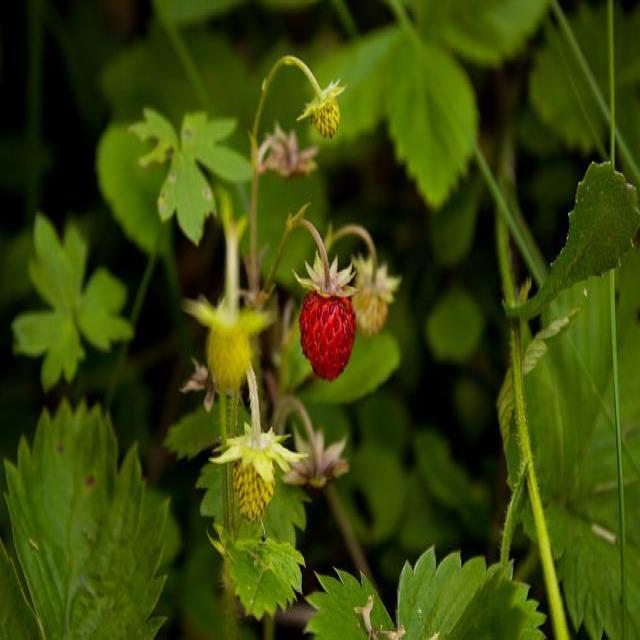ripe: (292, 274, 360, 382)
unripe: (194, 306, 264, 407), (223, 430, 283, 532), (350, 252, 400, 348), (305, 83, 347, 146)
